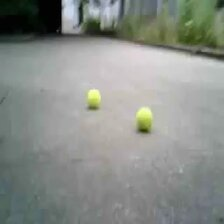tennis: (135, 105, 154, 132), (87, 89, 102, 107)
